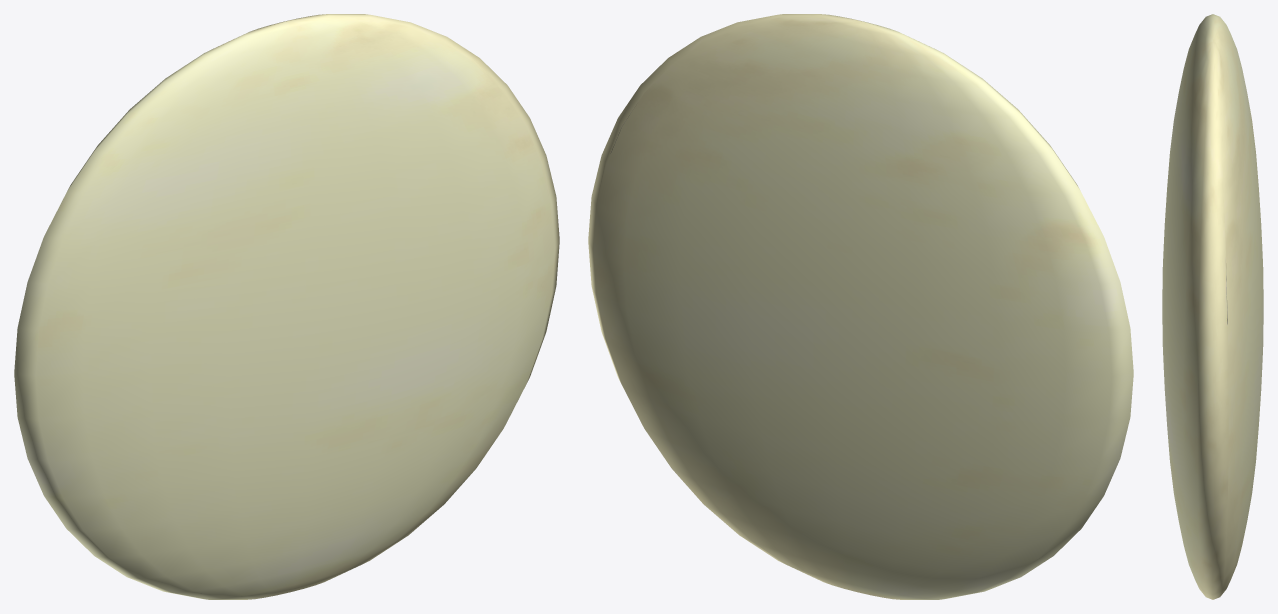
The model's file is moon.obj.
3 views of the same model, side by side, from view 1: azimuth 30°, elevation 25°; view 2: azimuth 150°, elevation 25°; view 3: azimuth 270°, elevation 25° (orthographic). The views are drawn at different scales.
Parts seen in each view (by area): view 1: moon:moon; view 2: moon:moon; view 3: moon:moon.
Boxes of the visible parts, x1,y1,x2,y2 form: moon:moon: (14, 14, 559, 599); moon:moon: (588, 14, 1133, 599); moon:moon: (1162, 14, 1263, 599).
Size of the model in its own units: 19.73 by 19.73 by 3.42.
